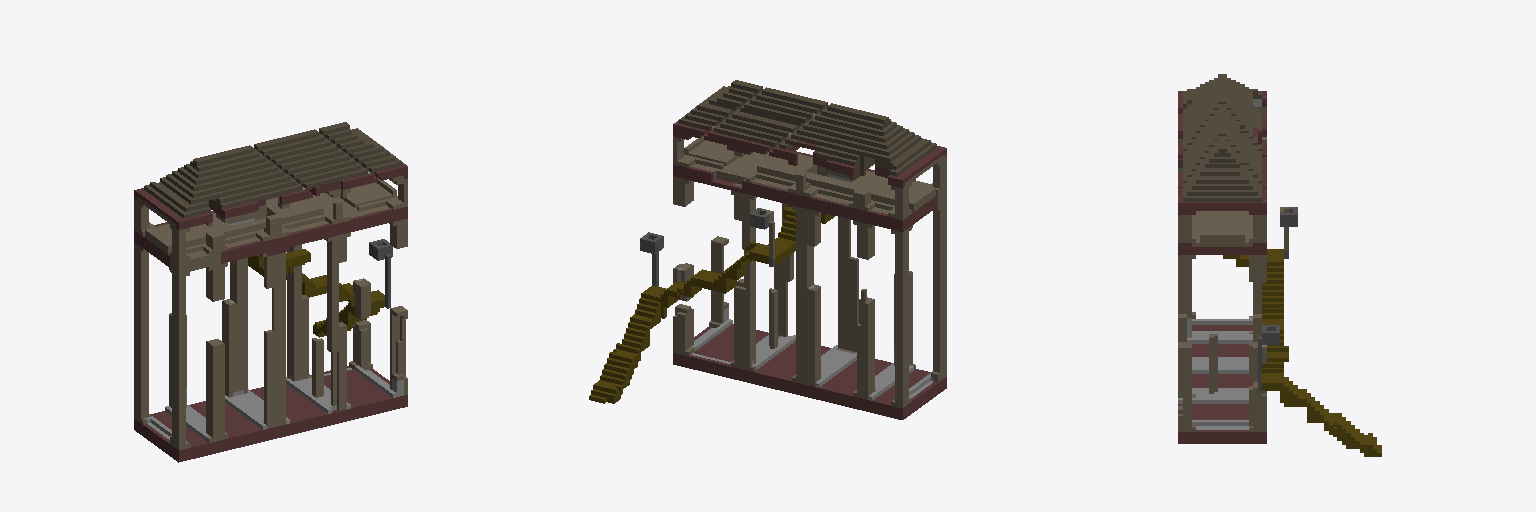
3 views of the same model, side by side, from view 1: azimuth 30°, elevation 25°; view 2: azimuth 150°, elevation 25°; view 3: azimuth 270°, elevation 25° (orthographic).
Parts seen in each view (by area): view 1: object 1; view 2: object 1; view 3: object 1.
Boxes of the visible parts, x1=… form: object 1: x1=134, y1=122, x2=407, y2=462; object 1: x1=589, y1=80, x2=946, y2=419; object 1: x1=1178, y1=74, x2=1381, y2=456.
Bounding box in the file's own units: 6.7 × 6.9 × 4.6.
1 materials, 1 textured.